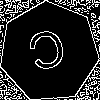C: (24, 26, 73, 82)
